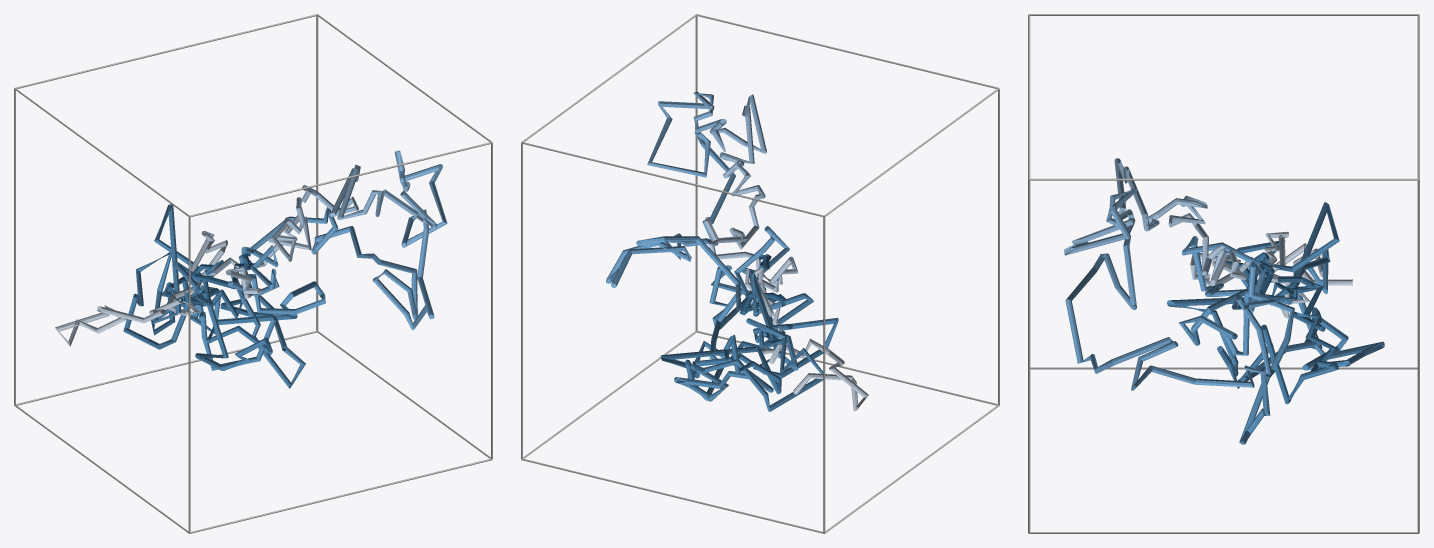
The picture shows the model from 3 angles, left to right: view 1: azimuth 30°, elevation 25°; view 2: azimuth 150°, elevation 25°; view 3: azimuth 270°, elevation 25°; orthographic projection. The views are drawn at different scales.
Parts seen in each view (by area): view 1: geometry_0, geometry_1; view 2: geometry_0, geometry_1; view 3: geometry_0, geometry_1.
Part boxes in pixels (<box>): geometry_0: <box>55,150,447,388</box>; geometry_1: <box>14,14,492,533</box>; geometry_0: <box>606,91,868,411</box>; geometry_1: <box>521,14,999,533</box>; geometry_0: <box>1064,158,1384,444</box>; geometry_1: <box>1028,14,1419,533</box>.
Size of the model in its own units: 0.3037 by 0.3014 by 0.3016.
